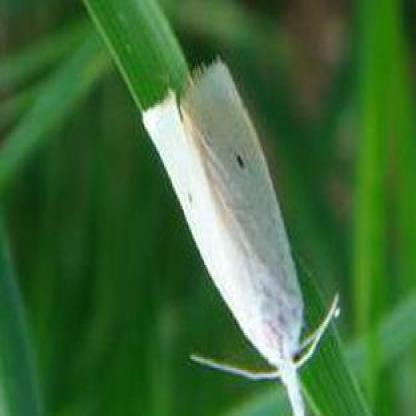stem-borer: (140, 50, 346, 416)
